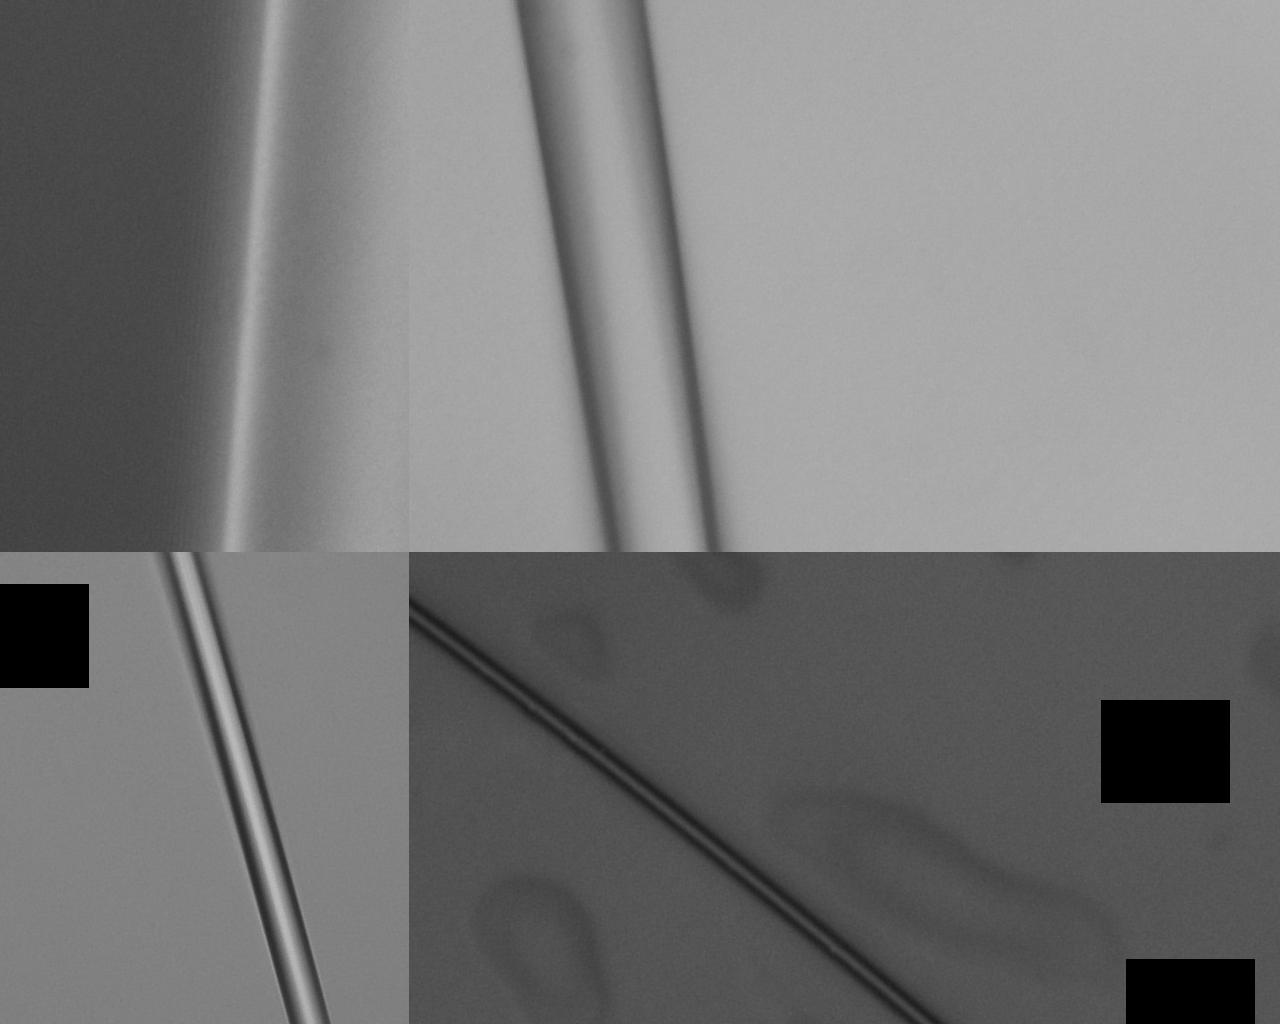fiber: (127, 153, 1151, 410)
